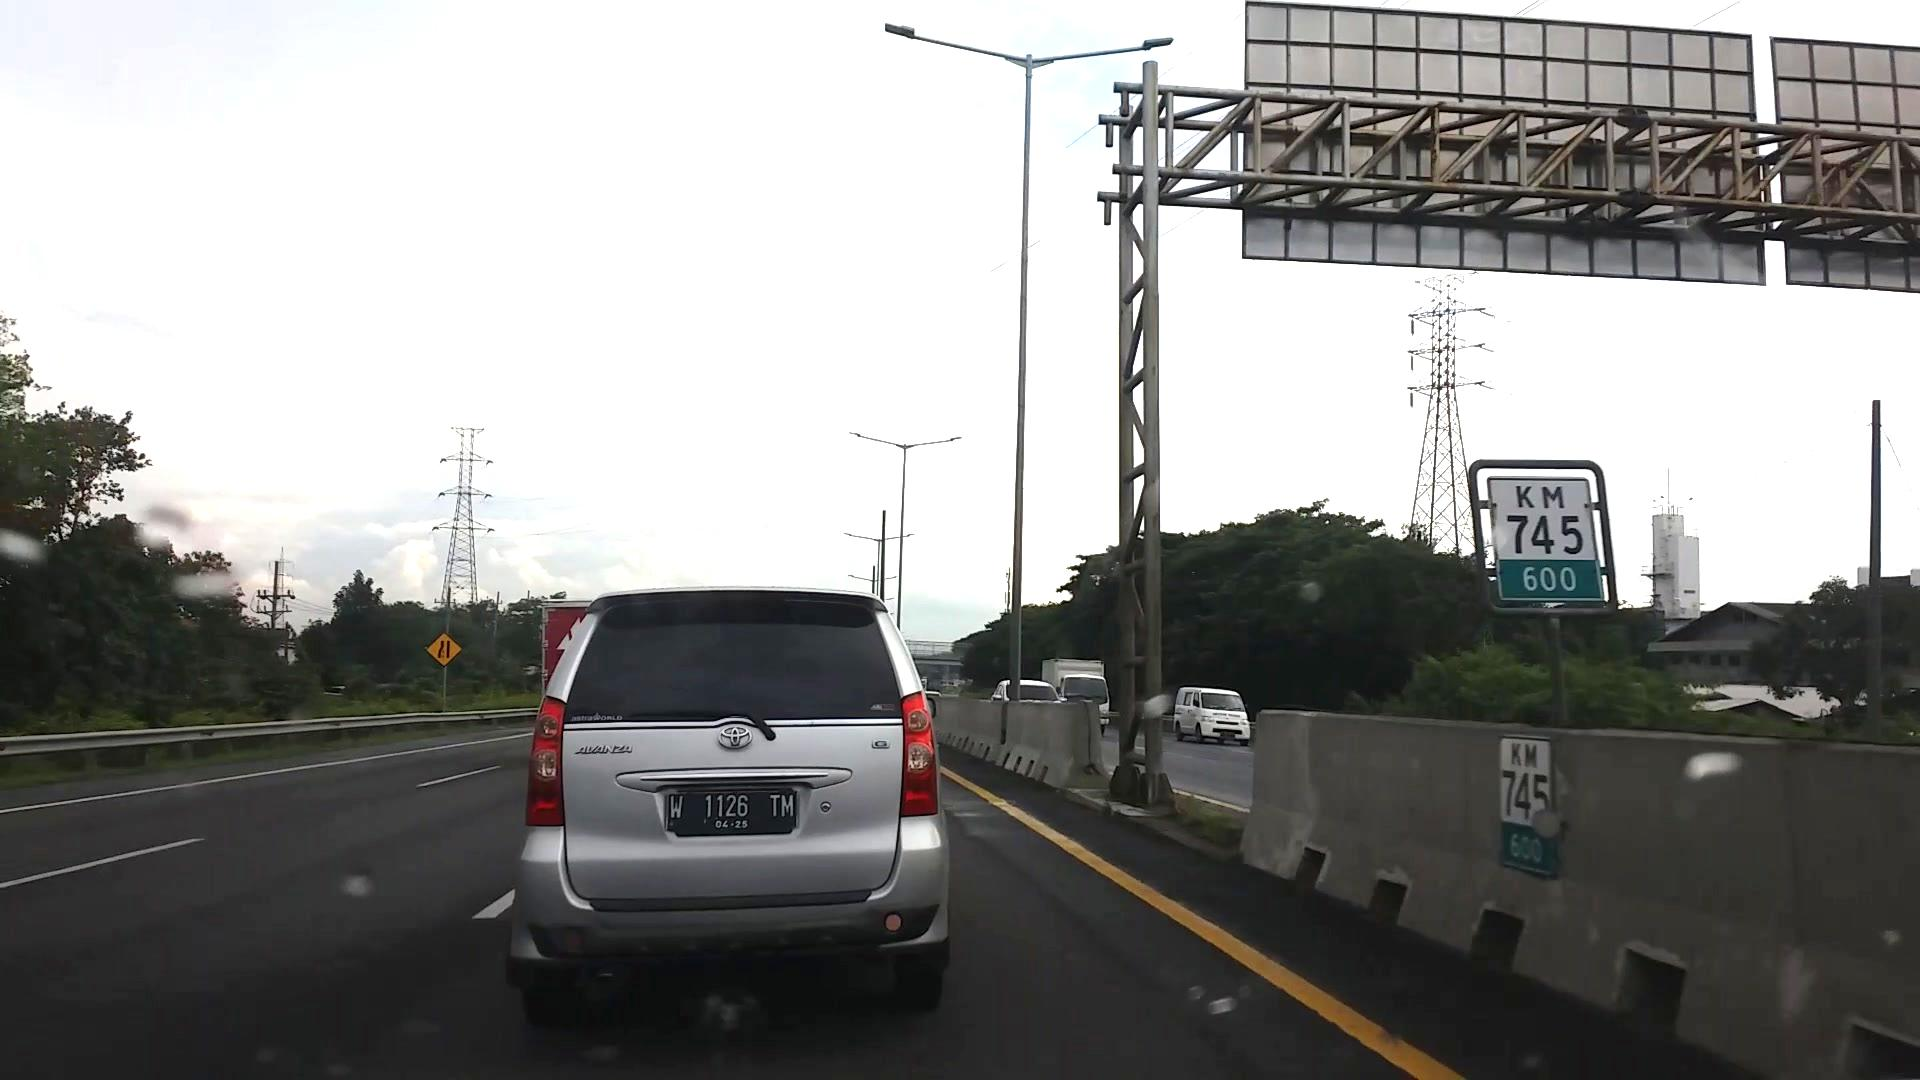plate_positive: (665, 791, 796, 835)
